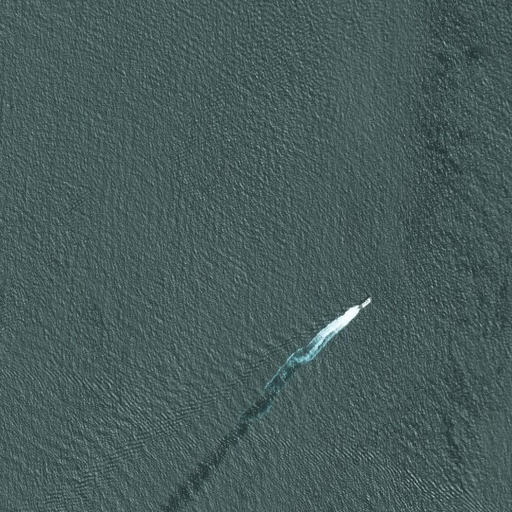ship: (356, 294, 375, 311)
